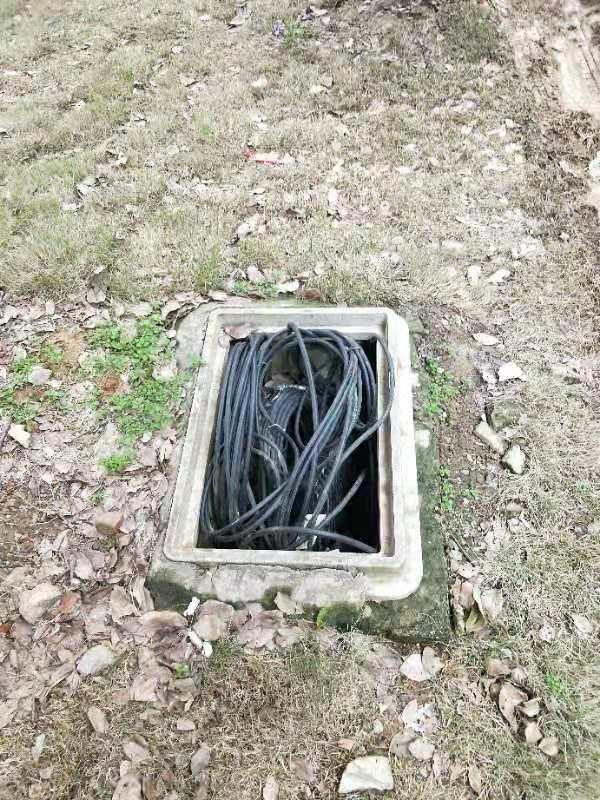wellcover: (172, 292, 433, 628)
